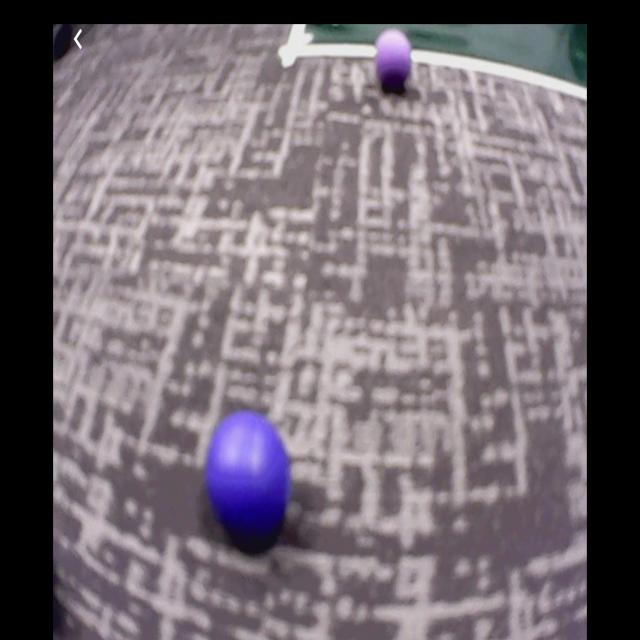ball: (208, 411, 290, 537), (376, 29, 412, 87)
